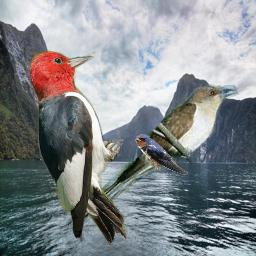Cuckoo: (63, 83, 242, 235)
Swallow: (135, 134, 188, 175)
Woodpecker: (30, 49, 130, 245)
